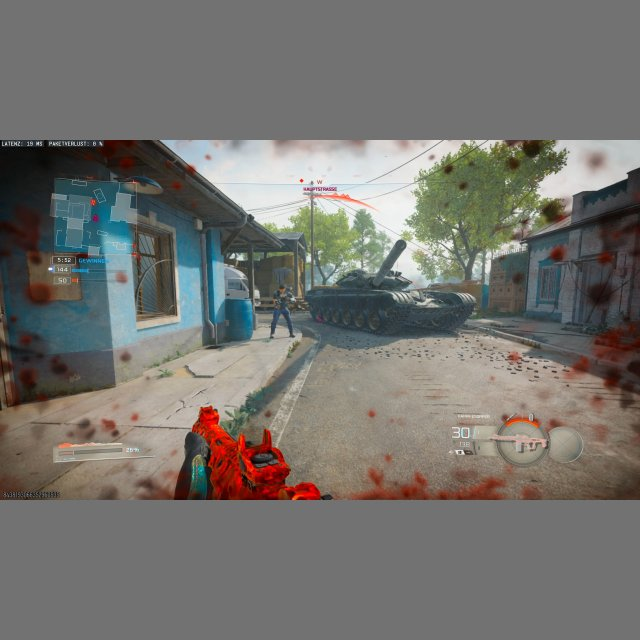player: (268, 284, 296, 339)
